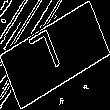L_SE: (35, 26, 75, 84)
